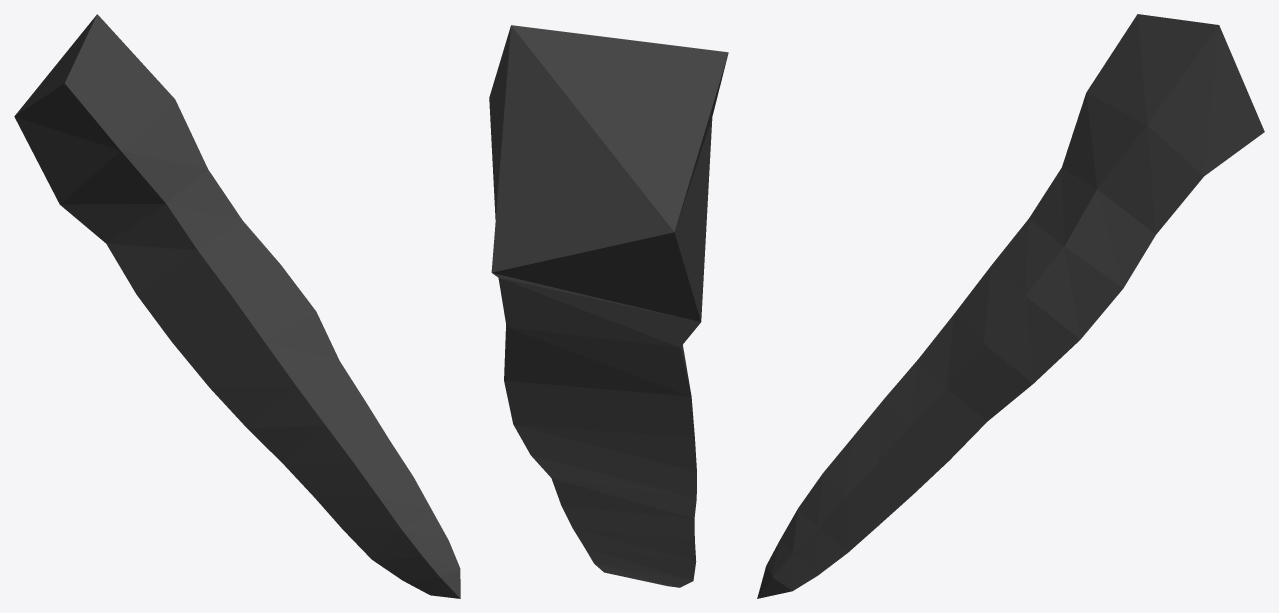
3 renders of one model, left to right at view 1: azimuth 30°, elevation 25°; view 2: azimuth 150°, elevation 25°; view 3: azimuth 270°, elevation 25°, orthographic. The views are drawn at different scales.
Parts seen in each view (by area): view 1: world; view 2: world; view 3: world.
Boxes of the visible parts, left/top/right/bottom form: world: left=14, top=14, right=460, bottom=598; world: left=489, top=25, right=728, bottom=587; world: left=757, top=14, right=1264, bottom=598.
Size of the model in its own units: 0.0207 by 0.0387 by 0.0358.
Materials: 1 (1 with a texture image).
